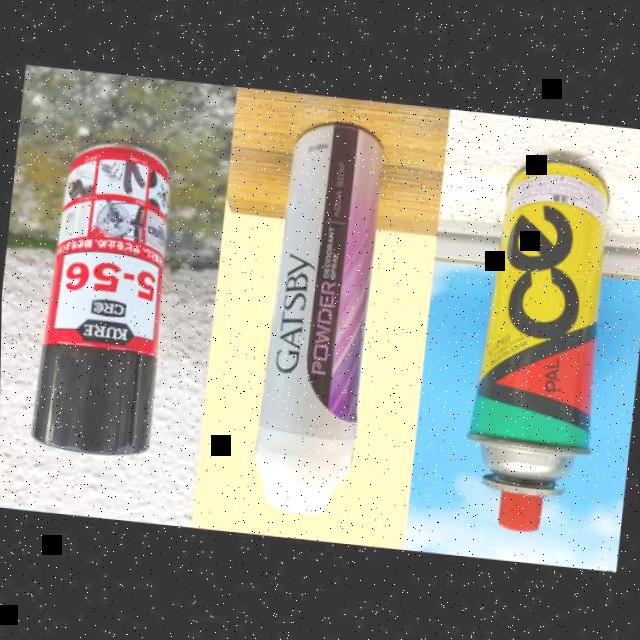chemical_spray_can: (230, 100, 418, 532), (438, 140, 637, 546), (8, 127, 205, 478)
